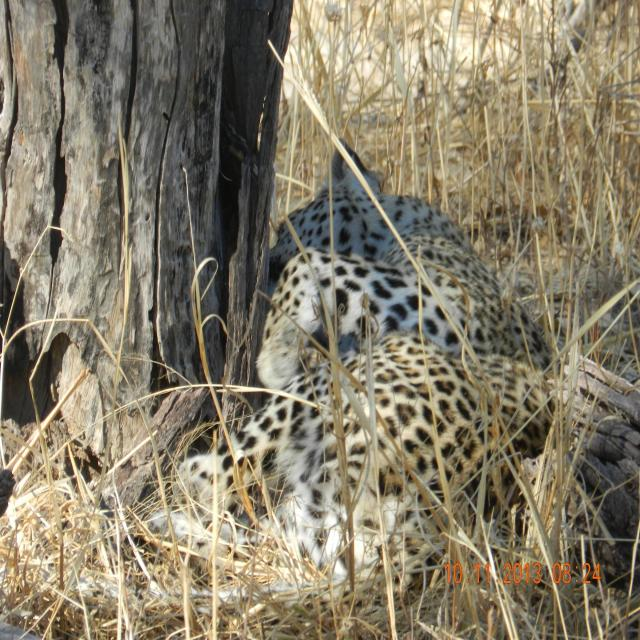Leopard: (138, 179, 581, 614)
